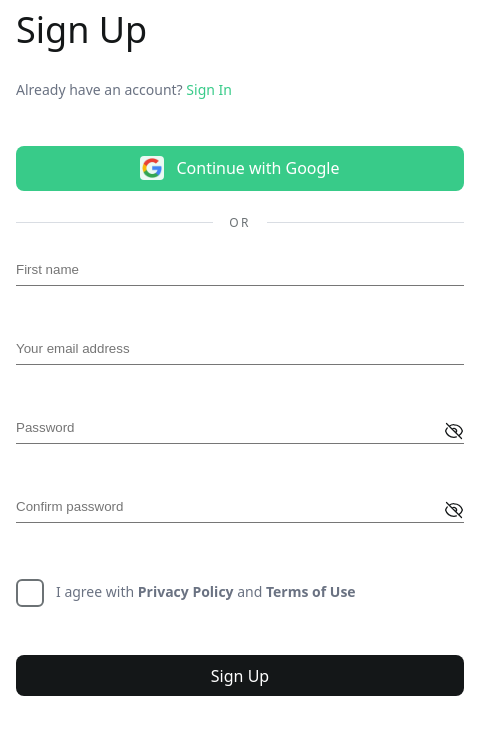
Test: Feature: RegisterForm › should show validation errors when submitted empty
What coordinates should you click on to do the following:
click the button "Sign Up"
I would click on:
 (240, 676)
Its box is [16,655,464,696].
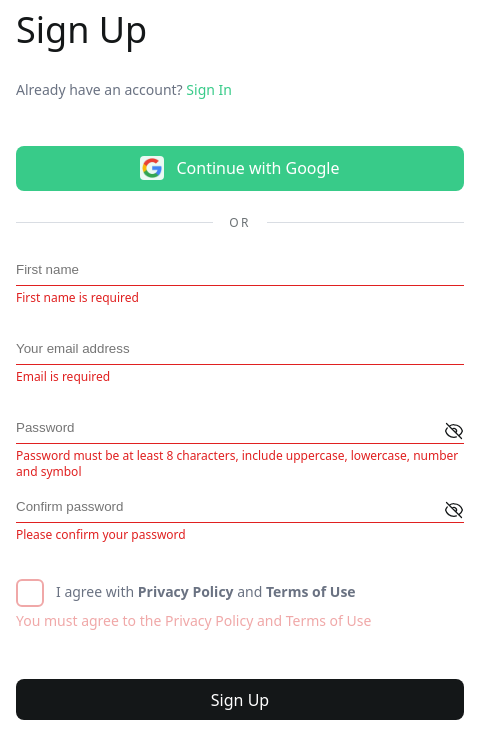
Check: the text "First name is required" is shown, box [16,289,139,306]
Check: the text "Email is required" is shown, box [16,368,110,385]
Check: the text "Password must be at least 8 characters, include uppercase, lowercase, number and symbol" is shown, box [16,447,458,480]
